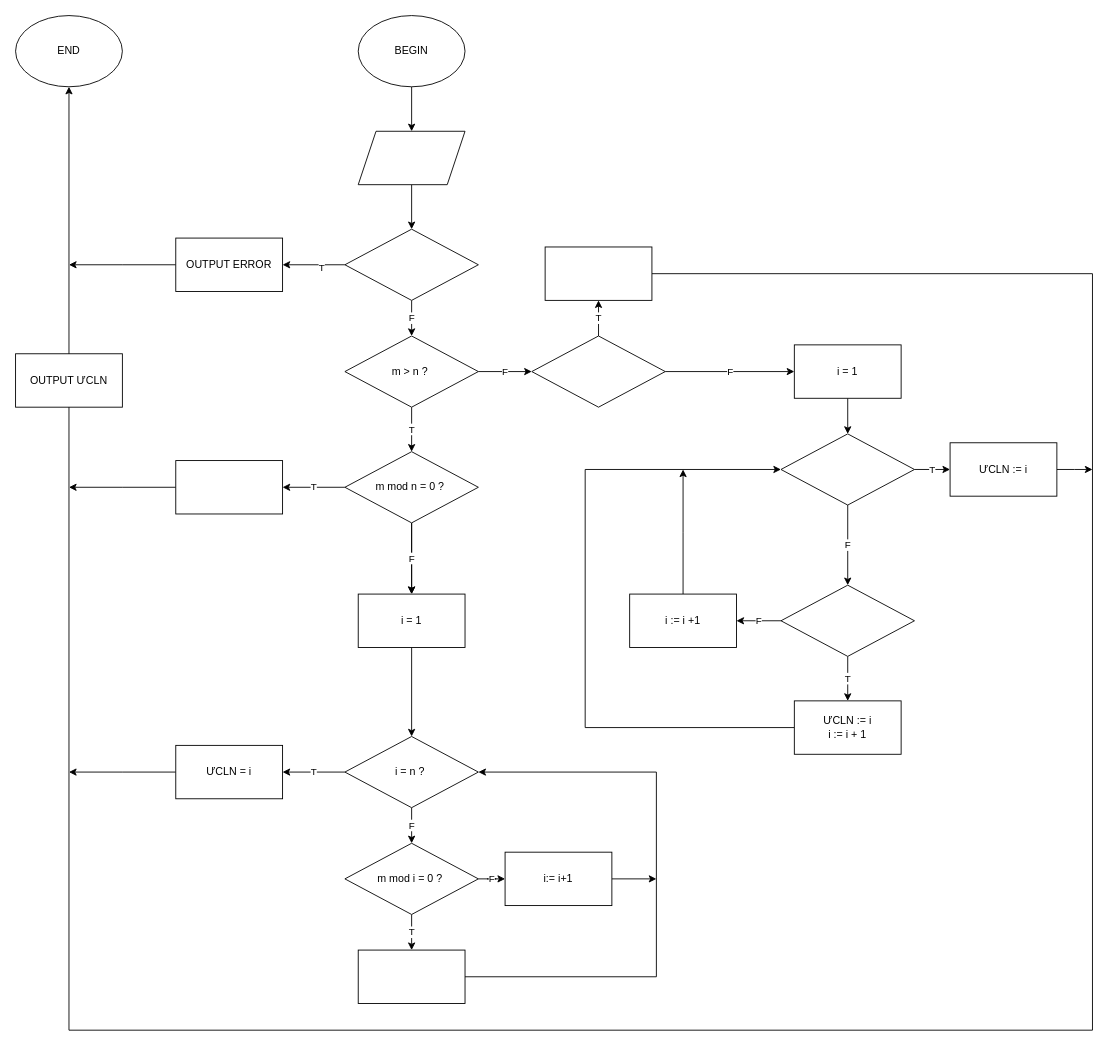
The diagram is 1115 pixels wide and 1053 high, and some of its shapes have lost their labels. The centre of each missing label's shape, as x and y in pixels:
"i = m ?" goes at (847,469).
"INPUT m n" goes at (411,157).
"m * n = 0 ?" goes at (411,264).
"n mod i = 0 ?" goes at (847,620).
"n mod m = 0 ?" goes at (598,371).
"ƯCLN := i i := i+1" goes at (411,976).
"ƯCLN := n" goes at (229,487).
"ƯCLN = m" goes at (598,273).
